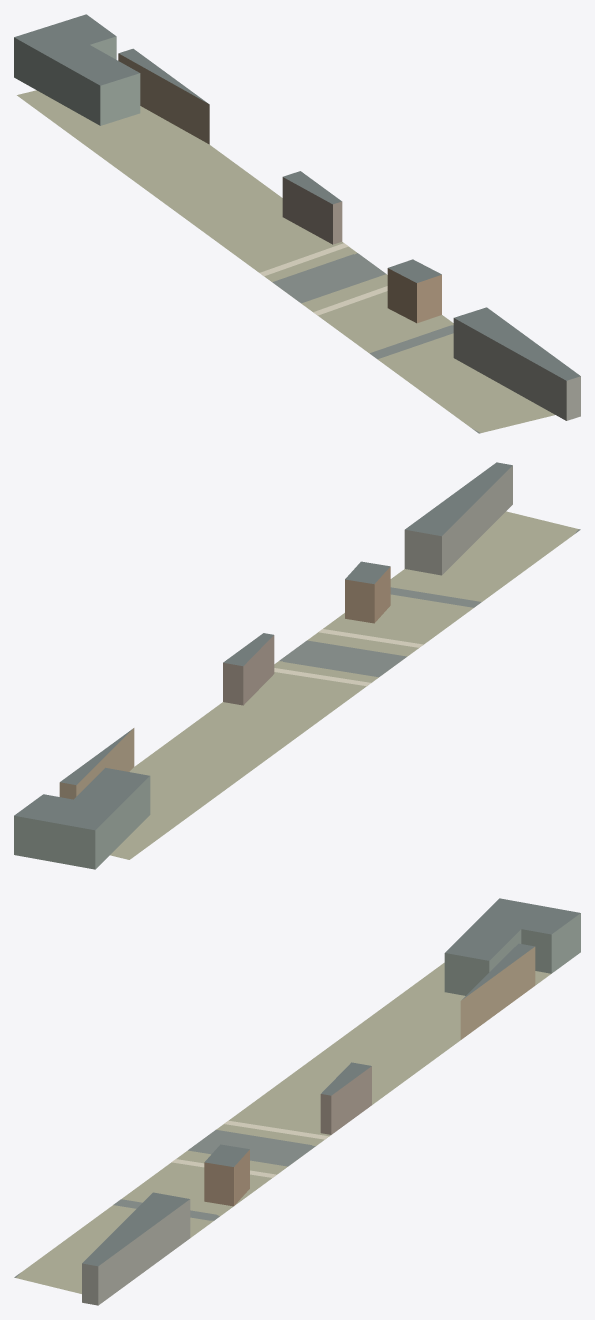
Rendered from sector-3_-2.glb.
3 views of the same model, one above another, from view 1: azimuth 30°, elevation 25°; view 2: azimuth 150°, elevation 25°; view 3: azimuth 330°, elevation 25° (orthographic). The views are drawn at different scales.
Visible parts, largest first — view 1: 3:-2-ground, 3:-2-facade, 3:-2-roof, 3:-2-road, 3:-2-paving; view 2: 3:-2-ground, 3:-2-facade, 3:-2-roof, 3:-2-road, 3:-2-paving; view 3: 3:-2-ground, 3:-2-facade, 3:-2-roof, 3:-2-road, 3:-2-paving.
Boxes of the visible parts, box(x1,y1,x2,y2) form: 3:-2-ground: box(17, 90, 554, 433); 3:-2-facade: box(14, 36, 580, 420); 3:-2-roof: box(14, 14, 580, 380); 3:-2-road: box(272, 253, 480, 433); 3:-2-paving: box(260, 243, 387, 315); 3:-2-ground: box(110, 511, 578, 859); 3:-2-facade: box(14, 465, 512, 869); 3:-2-roof: box(14, 462, 512, 830); 3:-2-road: box(279, 529, 580, 677); 3:-2-paving: box(274, 629, 423, 686); 3:-2-ground: box(16, 962, 551, 1293); 3:-2-facade: box(82, 913, 580, 1305); 3:-2-roof: box(82, 898, 580, 1266); 3:-2-road: box(14, 1130, 315, 1277); 3:-2-paving: box(171, 1120, 328, 1177).
Size of the model in its own units: 23.52 by 9.6 by 214.
